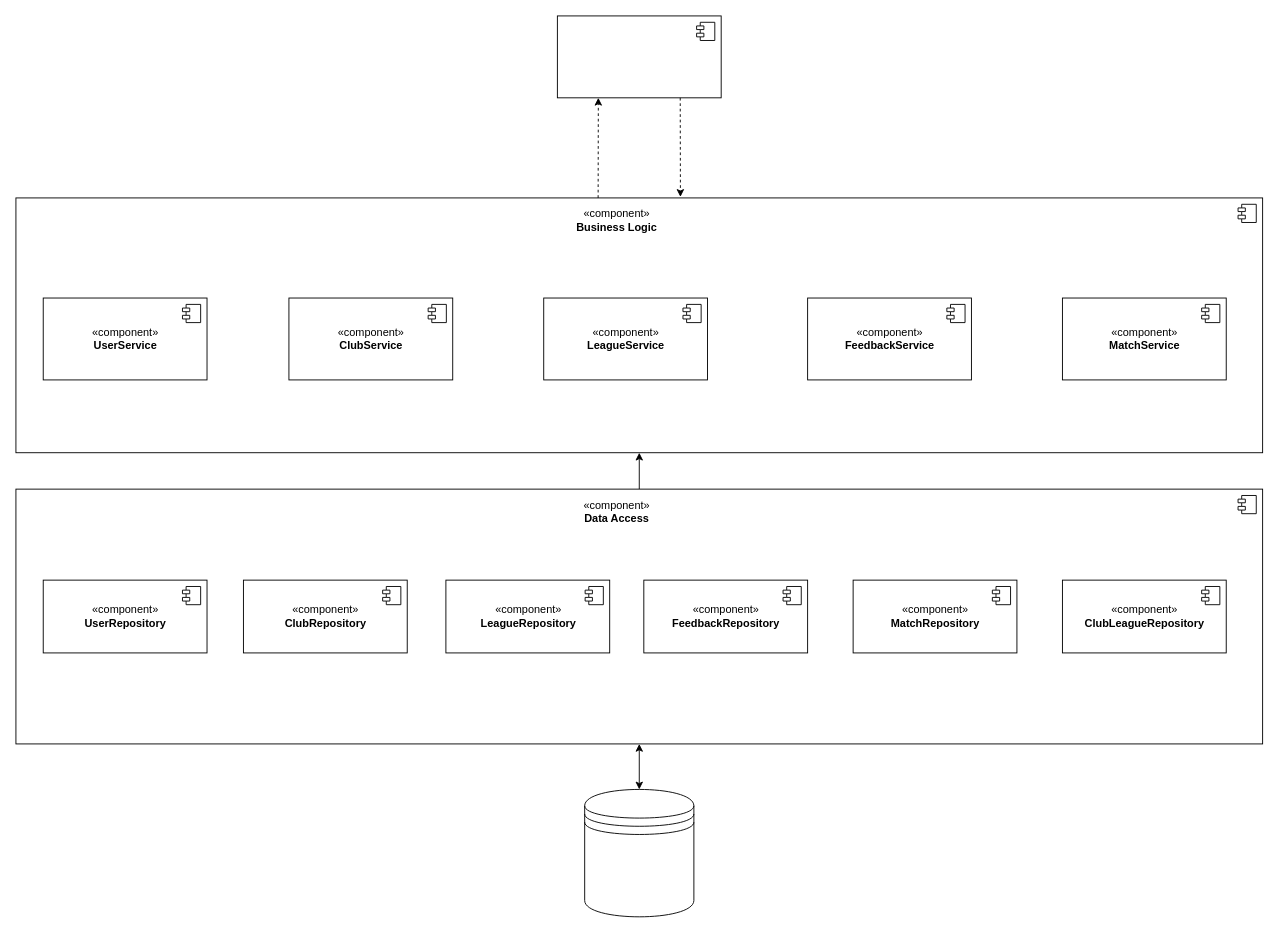
The diagram is 1279 pixels wide and 933 high, and some of its shapes have lost their labels. The centre of each missing label's shape, as x and y in pixels:
"DataBase" belongs at (639,853).
"«component» User Interface" belongs at (638,56).
